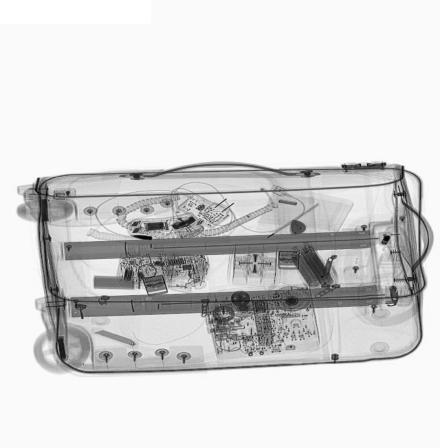Bullet: (128, 234, 152, 241)
